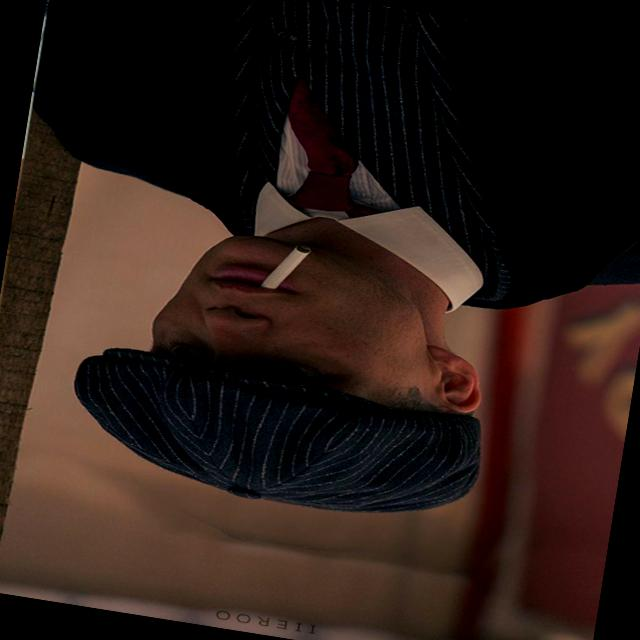smoke: (220, 205, 333, 313)
